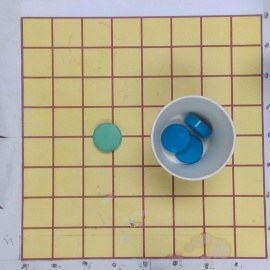cup_blue: (151, 95, 235, 181)
green: (92, 122, 124, 152)
